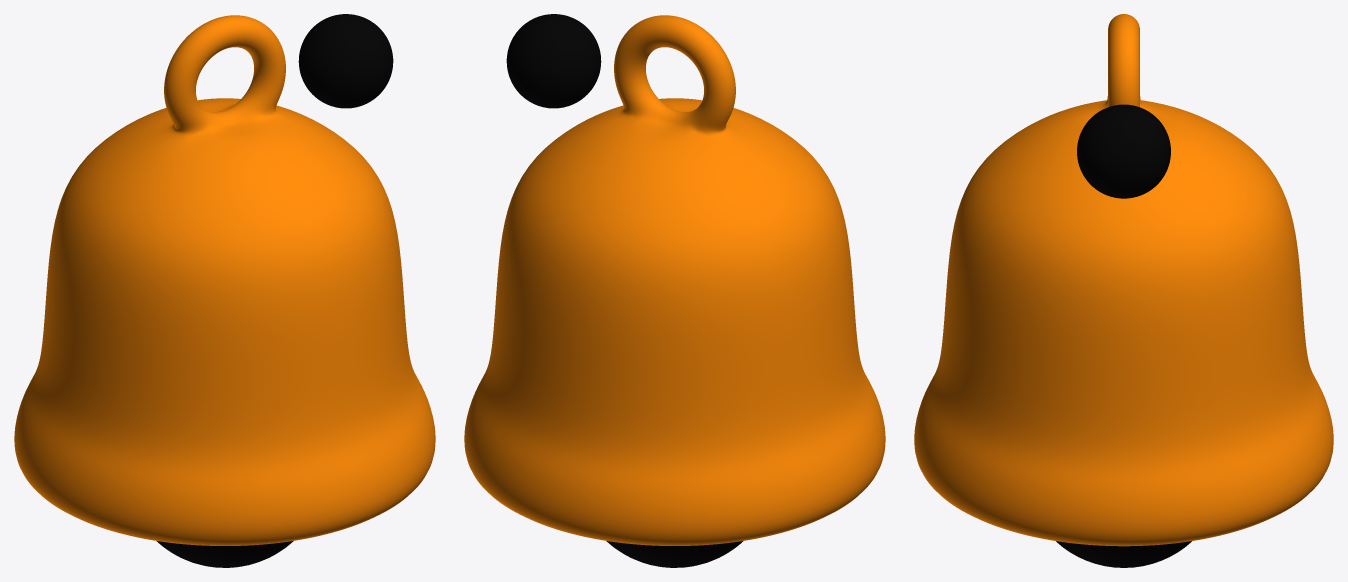
File: bell.glb
3 renders of one model, left to right at view 1: azimuth 30°, elevation 25°; view 2: azimuth 150°, elevation 25°; view 3: azimuth 270°, elevation 25°, orthographic.
Parts seen in each view (by area): view 1: Bell Outer; view 2: Bell Outer; view 3: Bell Outer.
Boxes of the visible parts, box(x1,y1,x2,y2) form: Bell Outer: box(14, 14, 435, 567); Bell Outer: box(464, 14, 885, 567); Bell Outer: box(914, 14, 1333, 567).
Bounding box in the file's own units: 1.31 × 1.85 × 1.31.
